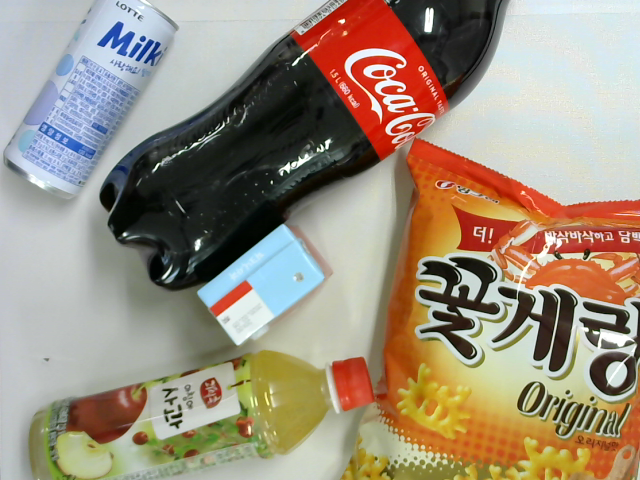Coca_Cola_1.5L: (99, 1, 515, 291)
Crabrang: (341, 139, 640, 479)
Milkies_250ml: (1, 1, 178, 202)
Morning_Apple_500ml: (29, 349, 375, 480)
Picnic_Apple: (194, 223, 333, 345)
